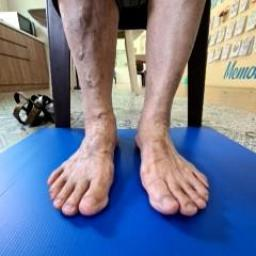Front View -Both Feet-: (38, 97, 222, 235)
